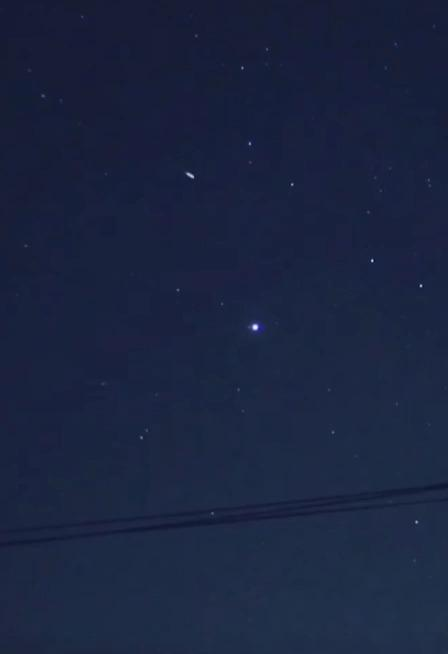meteorite: (175, 161, 205, 187)
